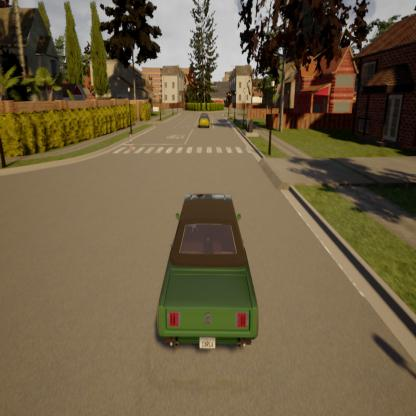Cars: (152, 181, 264, 359), (196, 109, 213, 131)
